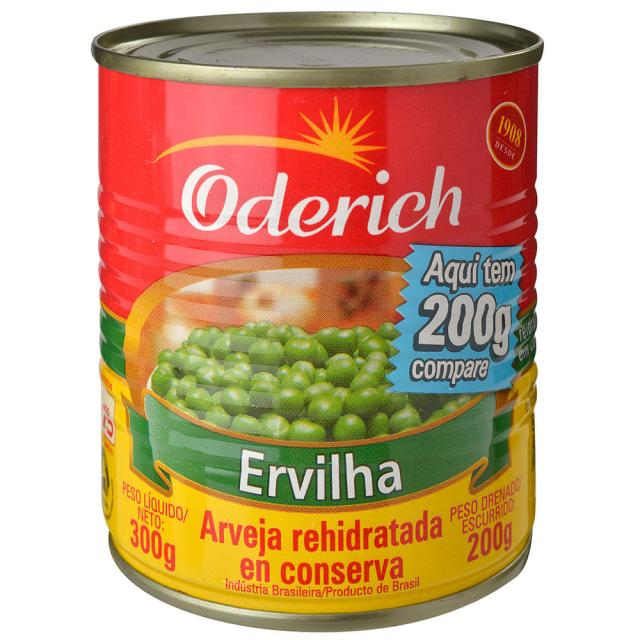arvejas: (162, 318, 413, 434)
